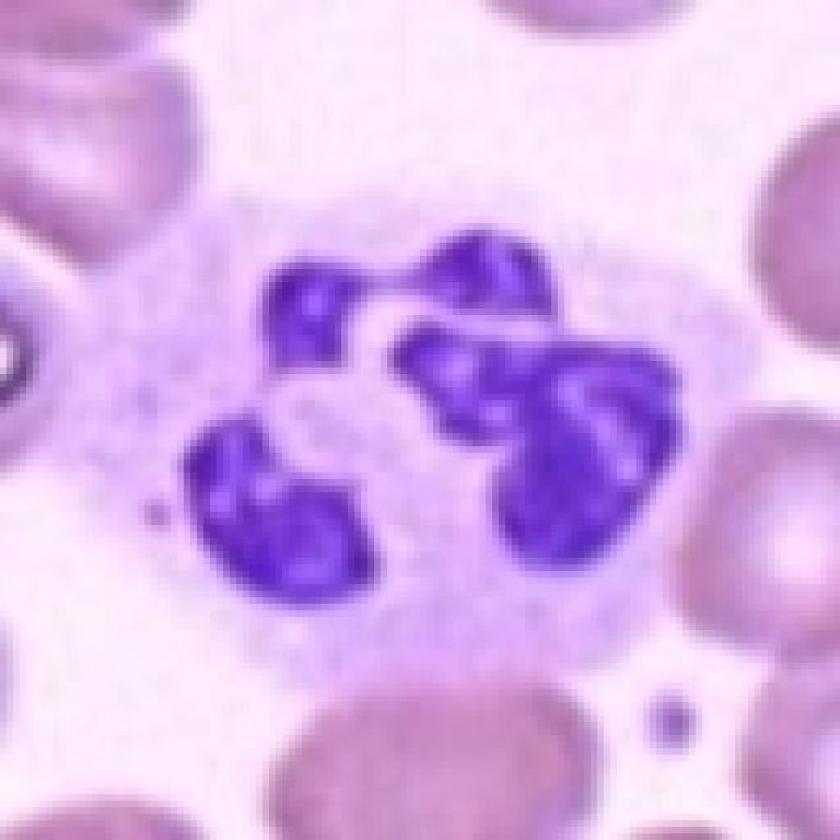neutrophil: (43, 191, 769, 690)
